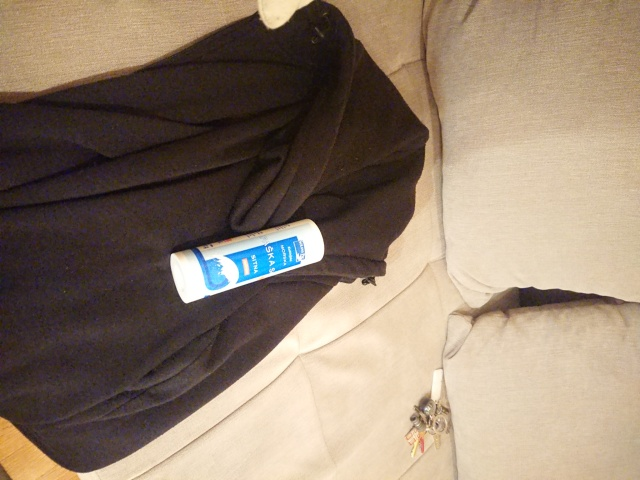Solana Pag Fine Sea Salt 250g: (167, 216, 327, 306)
